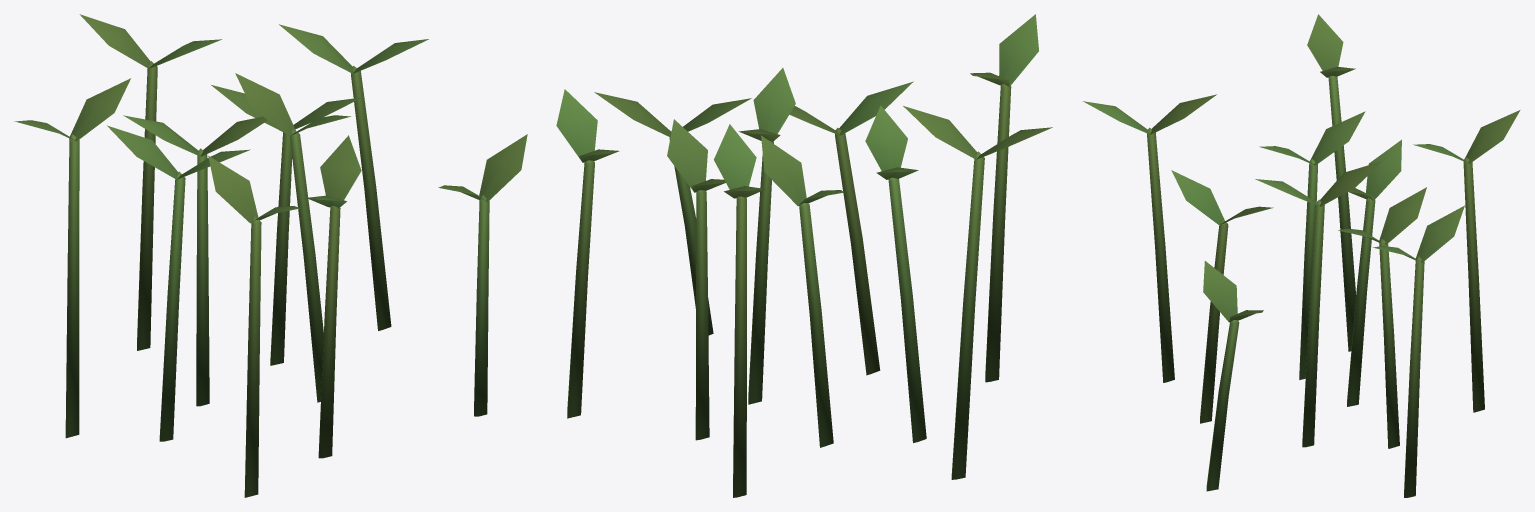
File: crop_fiber_s0.glb
3 views of the same model, side by side, from view 1: azimuth 30°, elevation 25°; view 2: azimuth 150°, elevation 25°; view 3: azimuth 270°, elevation 25° (orthographic). The views are drawn at different scales.
Parts seen in each view (by area): view 1: Crop_Fiber_S0; view 2: Crop_Fiber_S0; view 3: Crop_Fiber_S0.
Part boxes in pixels (x1,y1,x2,y2): Crop_Fiber_S0: (14,14,527,497); Crop_Fiber_S0: (556,14,1052,497); Crop_Fiber_S0: (1082,14,1520,497).
Bounding box in the file's own units: 0.0988 × 0.0683 × 0.0891.
